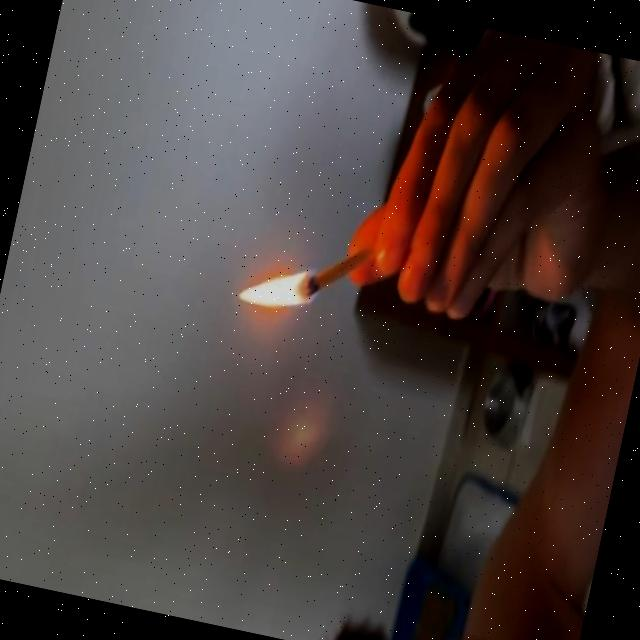fire: (233, 254, 323, 318)
